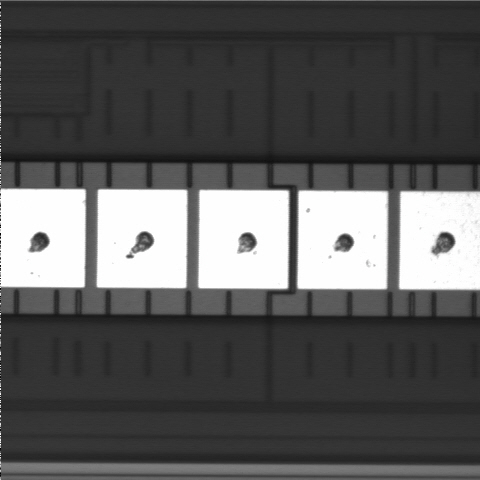pad: (198, 190, 289, 289), (297, 191, 388, 289), (97, 189, 187, 288)
